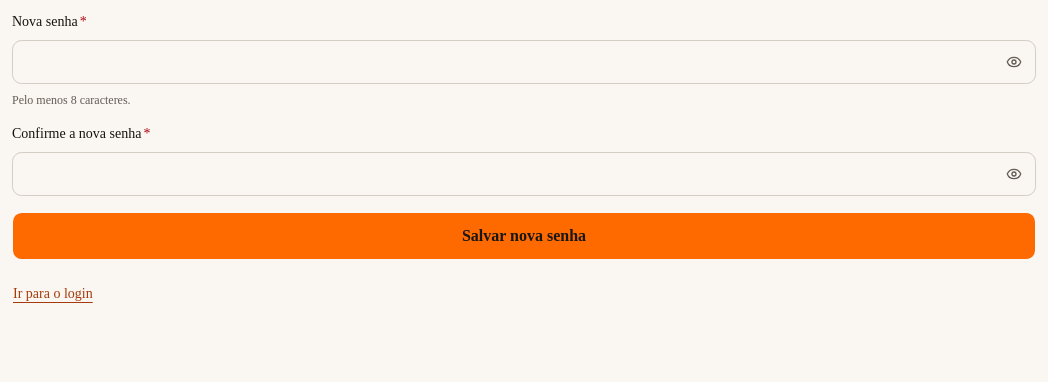
Test: does not display success after a failed password reset
Type "new-password" into the password field labelled "Nova senha*" at (524, 62), box x1=12 y1=40 x2=1036 y2=84
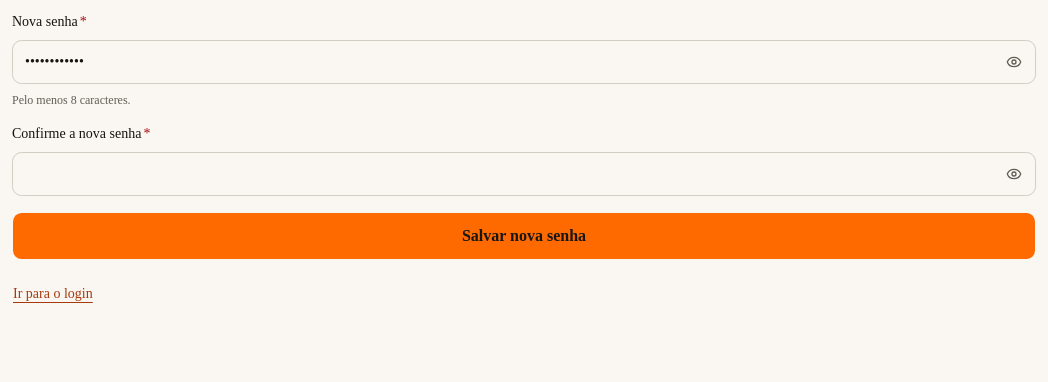
Type "new-password" into the password field labelled "Confirme a nova senha*" at (524, 174), box x1=12 y1=152 x2=1036 y2=196
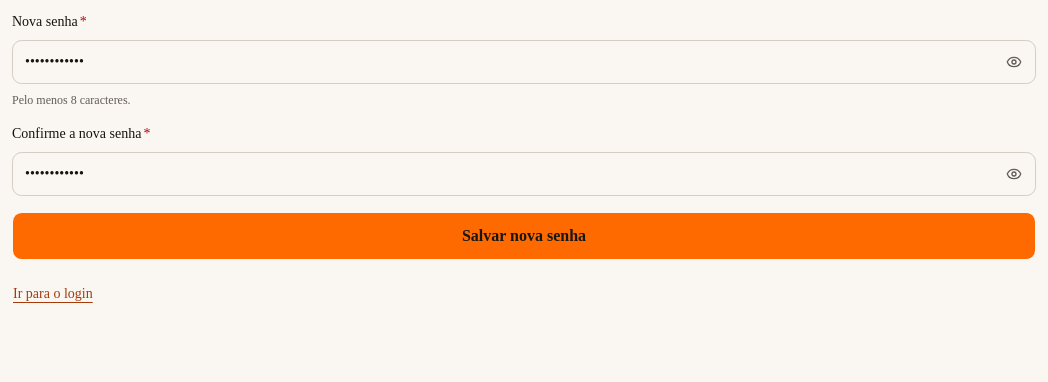
Submit the form "Salvar nova senha"
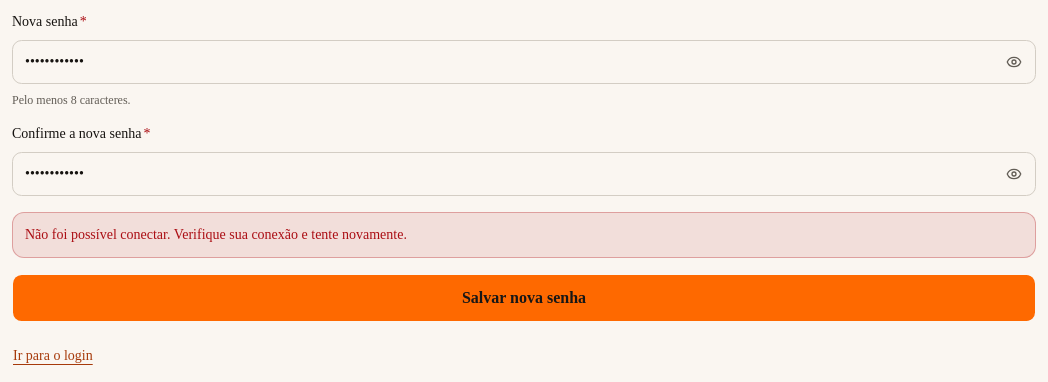
Check: the button "Salvar nova senha" is enabled, box x1=12 y1=274 x2=1036 y2=322
Check: the message shows "conexão", box x1=25 y1=227 x2=407 y2=242
